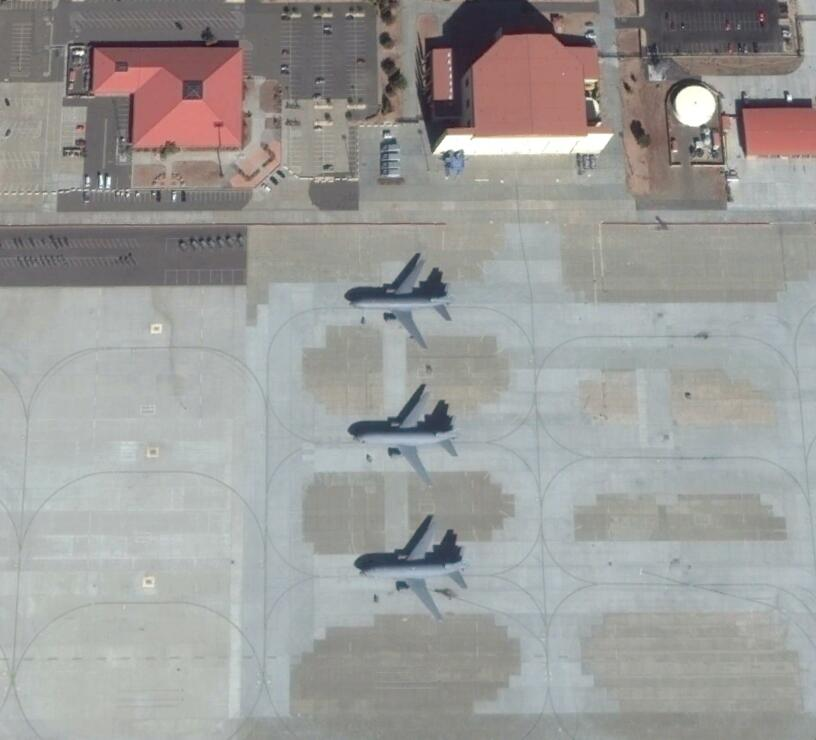A18: (357, 515, 469, 622), (344, 255, 458, 349), (350, 390, 461, 484)
